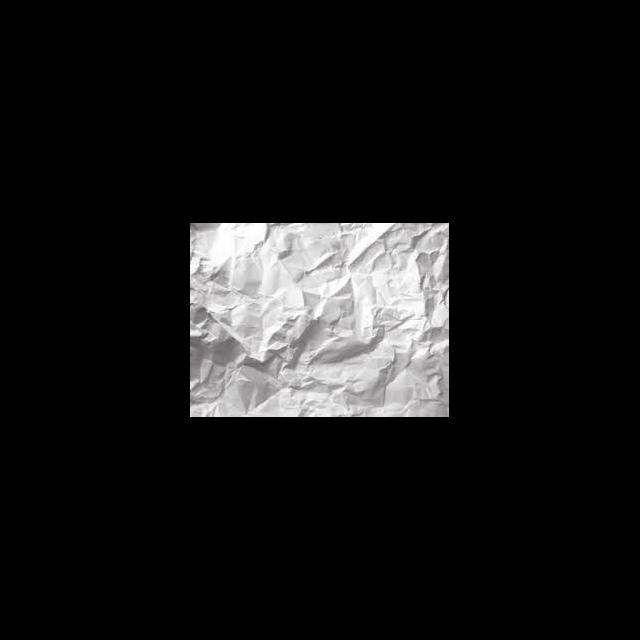paper: (190, 223, 448, 416)
